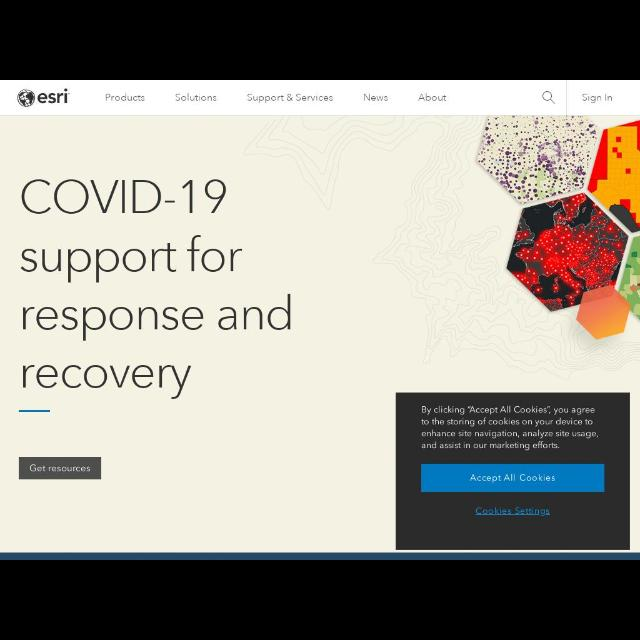backgroundimage: (1, 116, 639, 552)
icon: (542, 91, 556, 105)
image: (18, 88, 72, 108)
link: (475, 507, 551, 518)
multitab: (90, 80, 467, 116)
text: (21, 178, 293, 400), (421, 404, 599, 452), (246, 91, 334, 102), (174, 93, 218, 103), (582, 92, 612, 106), (104, 93, 146, 103), (364, 93, 388, 103), (419, 94, 447, 102)
textbutton: (422, 464, 604, 492), (19, 456, 101, 479)
toolbar: (467, 80, 639, 116)
